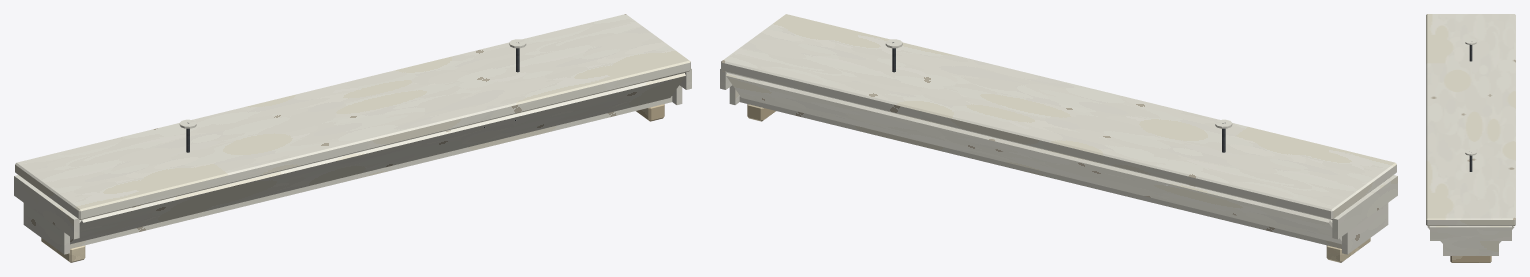
File: gk_fluoro.glb
The picture shows the model from 3 angles, left to right: view 1: azimuth 30°, elevation 25°; view 2: azimuth 150°, elevation 25°; view 3: azimuth 270°, elevation 25°; orthographic projection. The views are drawn at different scales.
Visible parts, largest first — view 1: p; view 2: p; view 3: p.
Boxes of the visible parts, box(x1,y1,x2,y2) form: p: box(14, 14, 691, 262); p: box(720, 14, 1397, 262); p: box(1426, 14, 1515, 262).
Bounding box in the file's own units: 1.31 × 0.198 × 0.24.
3 materials, 3 textured.
